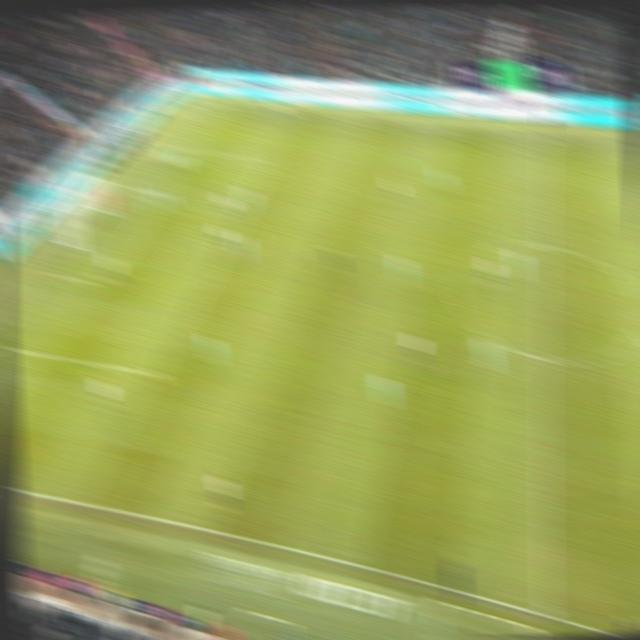bigarea_bottom_inner: (141, 366, 165, 383)
bigarea_top_inner: (260, 153, 281, 168)
bigarea_top_outter: (149, 135, 170, 156)
bottom_arc_area_intersection: (187, 280, 209, 295)
corner: (182, 95, 207, 110)
halfcircle_bottom: (533, 349, 557, 367)
halfcircle_top: (532, 237, 557, 253)
midline_bottom_intersection: (535, 607, 560, 626)
midline_top_intersection: (536, 131, 556, 148)
smallarea_bottom_inner: (88, 273, 110, 288)
smallarea_bottom_outter: (42, 267, 66, 284)
smallarea_top_inner: (155, 183, 174, 205)
smallarea_top_outter: (117, 180, 133, 195)
top_arc_area_intersection: (233, 206, 254, 220)
